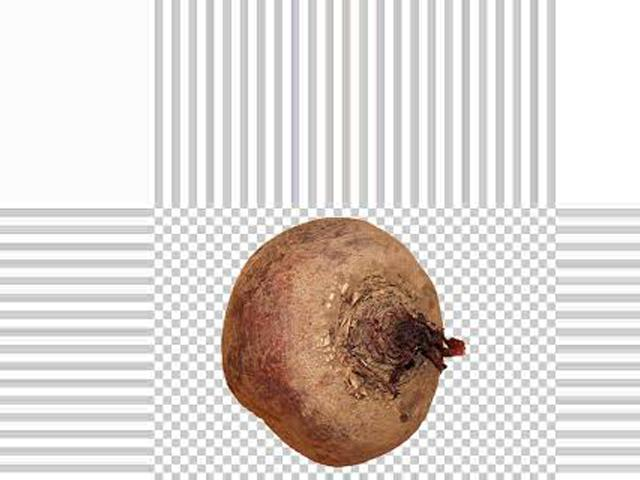beet: (222, 219, 466, 465)
